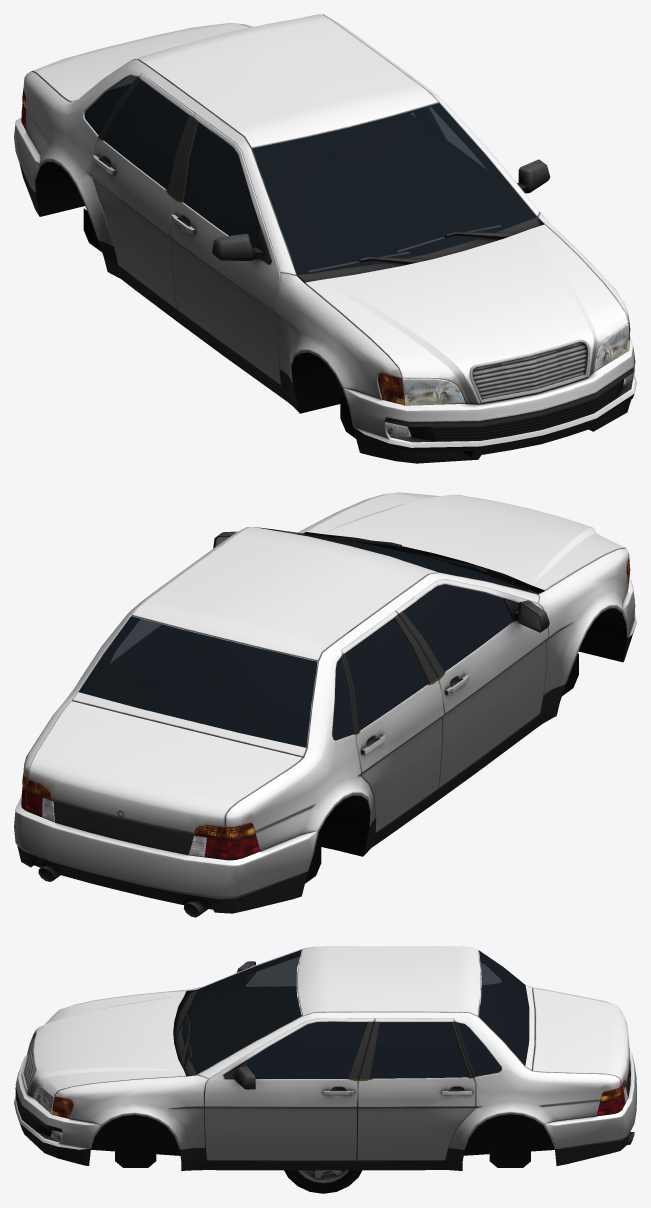
File: car.glb
3 renders of one model, top to bottom at view 1: azimuth 30°, elevation 25°; view 2: azimuth 150°, elevation 25°; view 3: azimuth 270°, elevation 25°, orthographic. The views are drawn at different scales.
Visible parts, largest first — view 1: paint, glass, head, tail; view 2: paint, glass, tail, head; view 3: paint, glass, wheel0, tail, head.
Boxes of the visible parts, x1,y1,x2,y2 form: paint: (14, 14, 636, 463); glass: (84, 76, 536, 275); head: (25, 98, 634, 437); tail: (21, 88, 630, 405); paint: (14, 492, 636, 917); glass: (78, 527, 535, 747); tail: (21, 555, 630, 859); head: (32, 557, 630, 860); paint: (14, 946, 636, 1171); glass: (181, 950, 529, 1078); wheel0: (284, 1170, 362, 1193); tail: (52, 1080, 626, 1118); head: (33, 1086, 628, 1142).
Size of the model in its own units: 1.94 by 1.65 by 4.36.
Materials: 5 (4 with a texture image).
